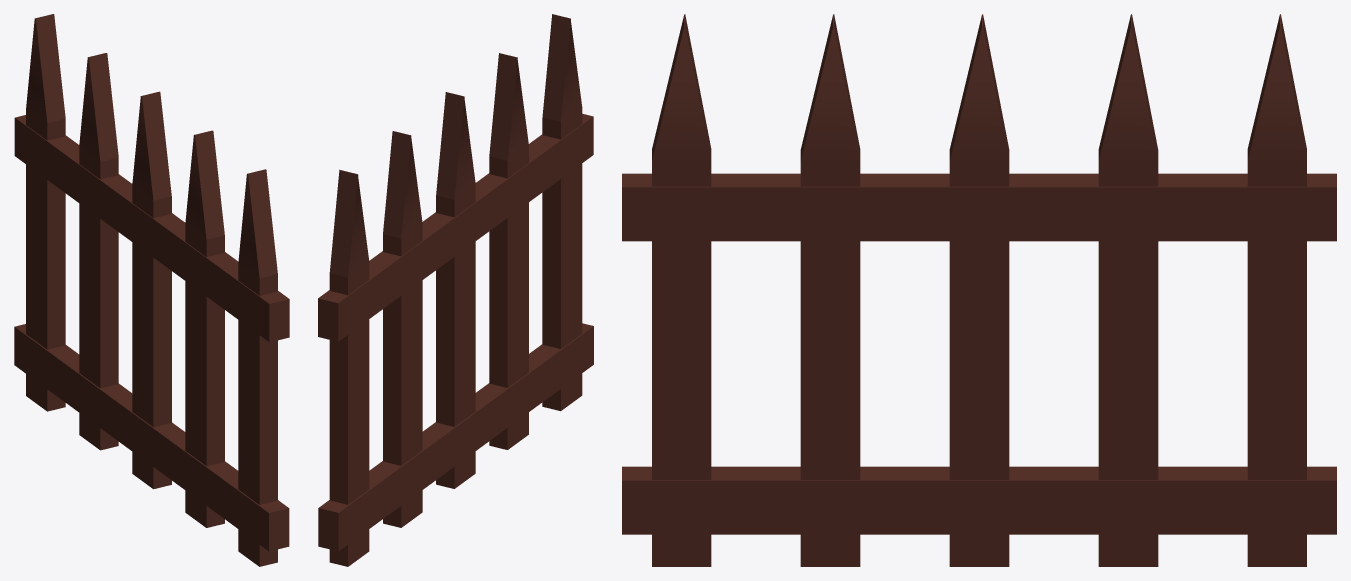
Rendered from fence.obj.
The picture shows the model from 3 angles, left to right: view 1: azimuth 30°, elevation 25°; view 2: azimuth 150°, elevation 25°; view 3: azimuth 270°, elevation 25°; orthographic projection. The views are drawn at different scales.
Parts seen in each view (by area): view 1: 立方体.002; view 2: 立方体.002; view 3: 立方体.002.
Boxes of the visible parts, x1,y1,x2,y2 form: 立方体.002: [14, 14, 289, 566]; 立方体.002: [318, 14, 593, 566]; 立方体.002: [622, 14, 1336, 566].
Bounding box in the file's own units: 0.1121 × 2 × 2.4.
1 material, 1 textured.
